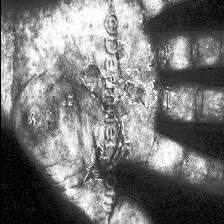Non-Cancerous Skin Condition: (20, 99, 56, 143), (122, 77, 154, 112), (82, 150, 102, 187), (155, 41, 175, 61), (116, 40, 129, 62)
